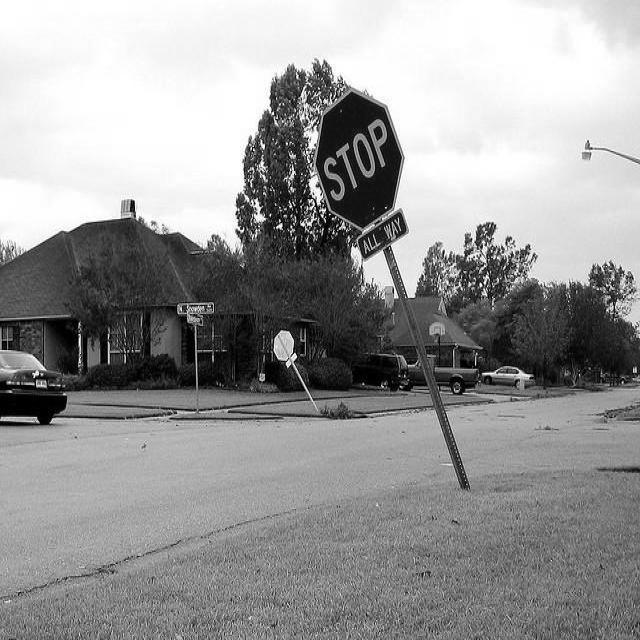vehicle: (0, 350, 67, 424), (407, 355, 479, 395), (354, 354, 410, 391), (481, 365, 536, 389)
